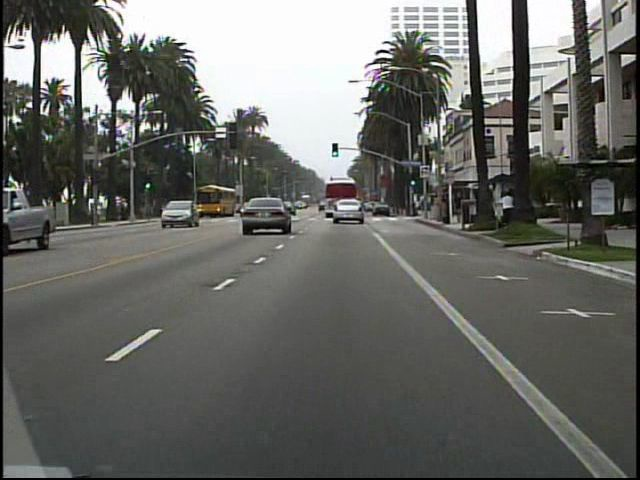person: (498, 187, 516, 227), (451, 189, 466, 227)
